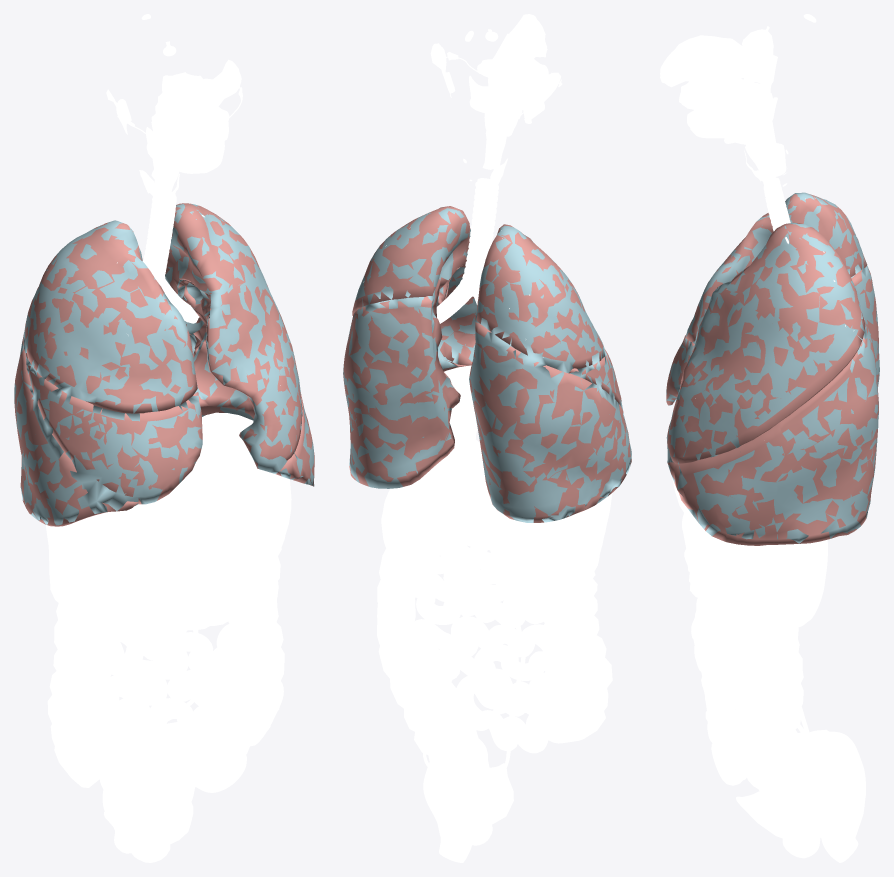
Rendered from manorgan.glb.
3 views of the same model, side by side, from view 1: azimuth 30°, elevation 25°; view 2: azimuth 150°, elevation 25°; view 3: azimuth 270°, elevation 25° (orthographic). The views are drawn at different scales.
Parts seen in each view (by area): view 1: Pleura, Jejunum, Liver, Superior lobe of right lung, Superior lobe of left lung, Ascending colon, Middle lobe of right lung, Transverse colon, Stomach, Inferior lobe of right lung, Urinary bladder, Gingiva (+8 smaller); view 2: Pleura, Jejunum, Inferior lobe of right lung, Inferior lobe of left lung, Ascending colon, Descending colon, Superior lobe of left lung, Superior lobe of right lung, Sigmoid colon, Liver, Kidney.l, Kidney.r (+19 smaller); view 3: Pleura, Superior lobe of left lung, Inferior lobe of left lung, Descending colon, Jejunum, Sigmoid colon, Superior lobe of right lung, Mucosa of nasal cavity, Urinary bladder, Kidney.l, Gingiva, Stomach (+12 smaller).
Part boxes in pixels (bbox=[...]): Pleura: bbox=[14, 204, 314, 525]; Jejunum: bbox=[99, 572, 283, 811]; Liver: bbox=[46, 412, 282, 609]; Superior lobe of right lung: bbox=[25, 223, 197, 413]; Superior lobe of left lung: bbox=[165, 203, 302, 468]; Ascending colon: bbox=[47, 603, 112, 787]; Middle lobe of right lung: bbox=[25, 353, 202, 504]; Transverse colon: bbox=[95, 525, 271, 630]; Stomach: bbox=[181, 477, 291, 588]; Inferior lobe of right lung: bbox=[14, 330, 138, 526]; Urinary bladder: bbox=[109, 797, 193, 847]; Gingiva: bbox=[146, 106, 229, 173]; Pleura: bbox=[343, 207, 631, 522]; Jejunum: bbox=[415, 530, 557, 753]; Inferior lobe of right lung: bbox=[469, 322, 631, 522]; Inferior lobe of left lung: bbox=[343, 296, 467, 486]; Ascending colon: bbox=[540, 566, 612, 743]; Descending colon: bbox=[377, 549, 489, 777]; Superior lobe of left lung: bbox=[352, 206, 475, 365]; Superior lobe of right lung: bbox=[476, 224, 603, 368]; Sigmoid colon: bbox=[423, 731, 487, 862]; Liver: bbox=[444, 365, 612, 576]; Kidney.l: bbox=[381, 485, 442, 576]; Kidney.r: bbox=[510, 526, 559, 618]; Pleura: bbox=[666, 192, 879, 543]; Superior lobe of left lung: bbox=[667, 223, 865, 463]; Inferior lobe of left lung: bbox=[667, 317, 878, 545]; Descending colon: bbox=[741, 559, 852, 802]; Jejunum: bbox=[691, 598, 756, 785]; Sigmoid colon: bbox=[821, 731, 865, 862]; Superior lobe of right lung: bbox=[686, 194, 867, 341]; Mucosa of nasal cavity: bbox=[660, 35, 738, 87]; Urinary bladder: bbox=[736, 791, 830, 841]; Kidney.l: bbox=[784, 539, 827, 627]; Gingiva: bbox=[679, 78, 746, 138]; Stomach: bbox=[682, 509, 769, 571].
Bounding box in the file's own units: 0.2618 × 0.816 × 0.192.
